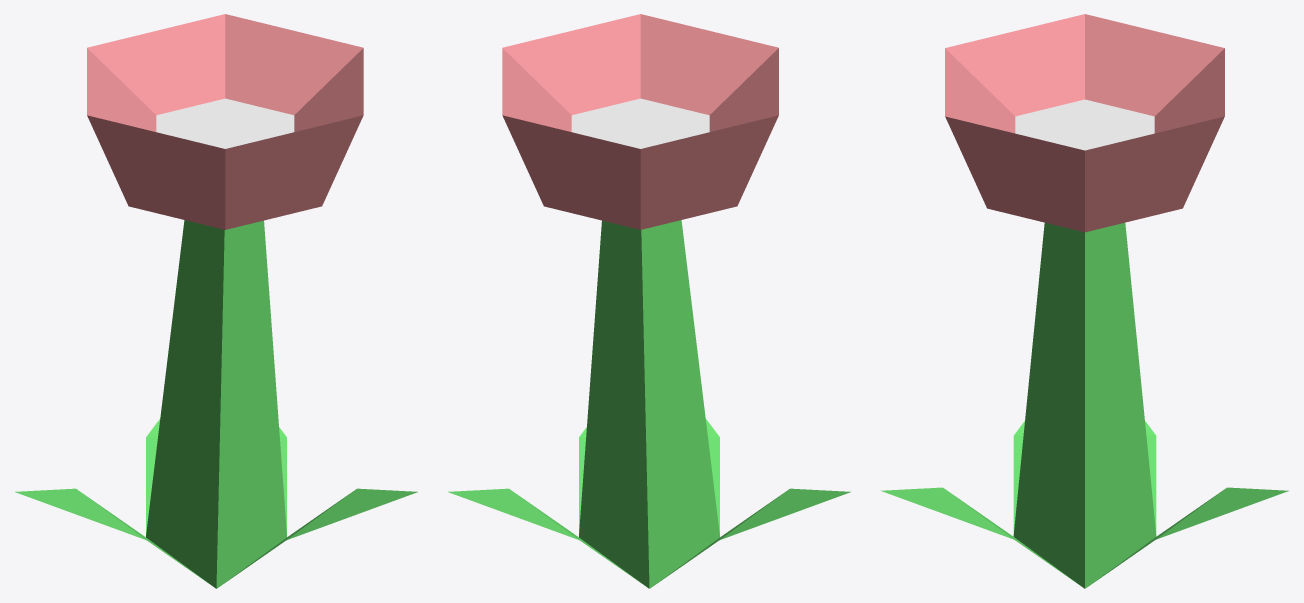
File: n_flower_redC.glb
3 views of the same model, side by side, from view 1: azimuth 30°, elevation 25°; view 2: azimuth 150°, elevation 25°; view 3: azimuth 270°, elevation 25° (orthographic).
Visible parts, largest first — view 1: flower_redC; view 2: flower_redC; view 3: flower_redC.
Part boxes in pixels (left/top/right/bottom): flower_redC: left=15, top=14, right=417, bottom=588; flower_redC: left=448, top=14, right=850, bottom=588; flower_redC: left=881, top=14, right=1288, bottom=588.
Bounding box in the file's own units: 0.3495 × 0.45 × 0.3504.
